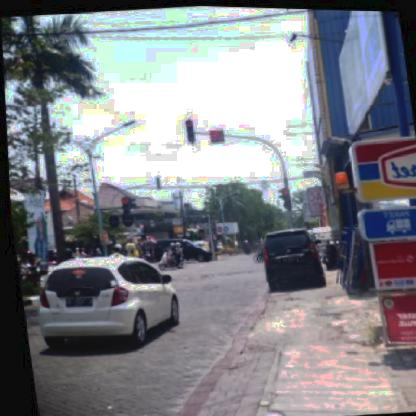Traffic Light -Red-: (118, 196, 131, 218), (184, 118, 194, 143), (279, 185, 289, 209)
